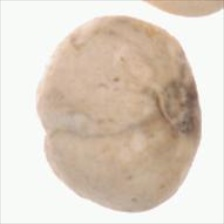L3: (34, 97, 53, 168)
L4: (35, 14, 203, 212)
